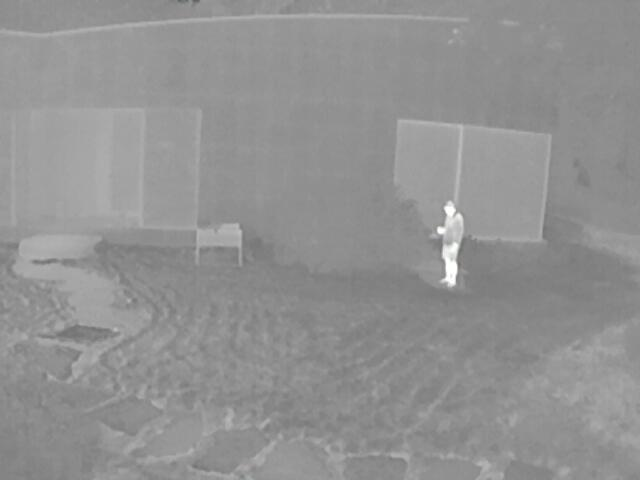person: (436, 200, 464, 289)
